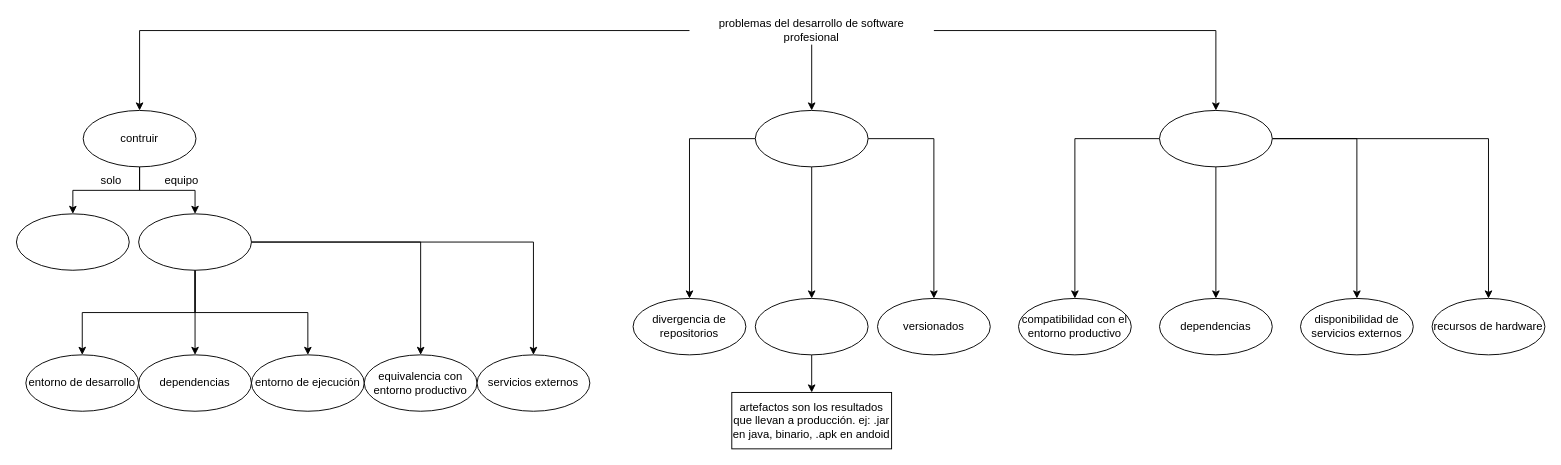
This 1561x465 diagram has some shape labels left out. The shapes that lost their labels are listed below. From the top down, each one's centre as x and y in pixels, then its label:
At point 811,138: "Distribuir".
At point 1215,138: "ejecutar".
At point 72,241: "escribir código".
At point 194,241: "problemas complejos".
At point 811,326: "divergencia de artefactos".
